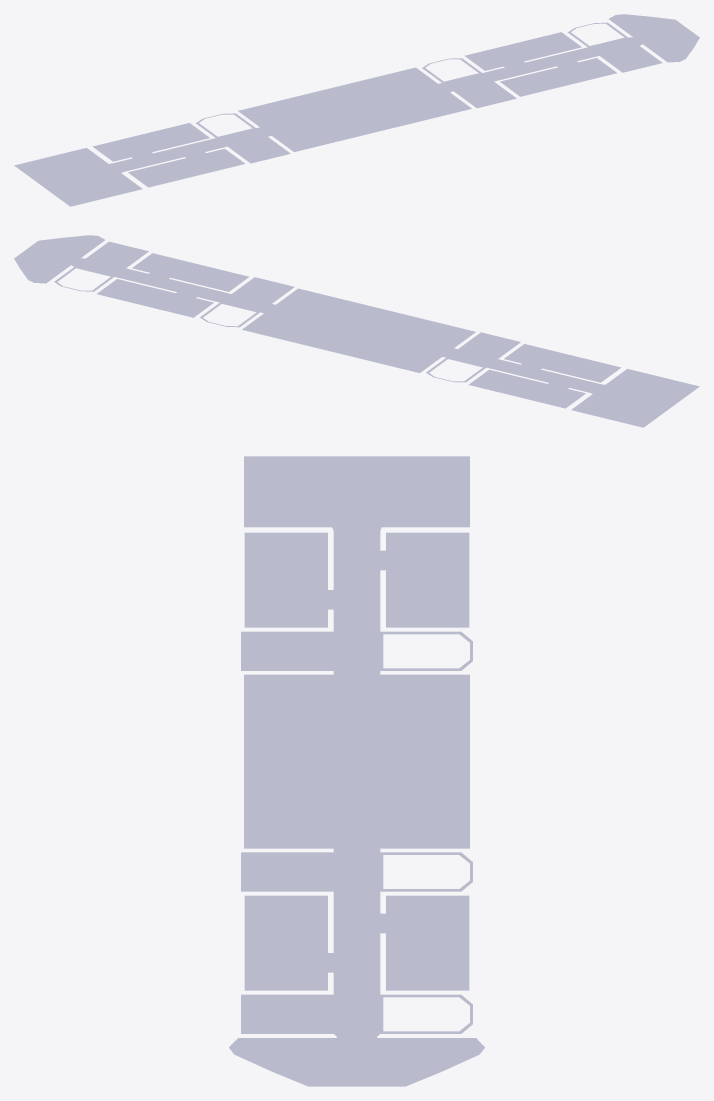
File: Level_02_Floor.fbx
The picture shows the model from 3 angles, top to bottom: view 1: azimuth 30°, elevation 25°; view 2: azimuth 150°, elevation 25°; view 3: azimuth 270°, elevation 25°; orthographic projection. The views are drawn at different scales.
Parts seen in each view (by area): view 1: Level_02_Floor; view 2: Level_02_Floor; view 3: Level_02_Floor.
Part boxes in pixels (x1=…): Level_02_Floor: x1=14, y1=14, x2=699, y2=206; Level_02_Floor: x1=14, y1=235, x2=699, y2=427; Level_02_Floor: x1=229, y1=456, x2=484, y2=1086.
Bounding box in the file's own units: 25689 × 0 × 4420.
